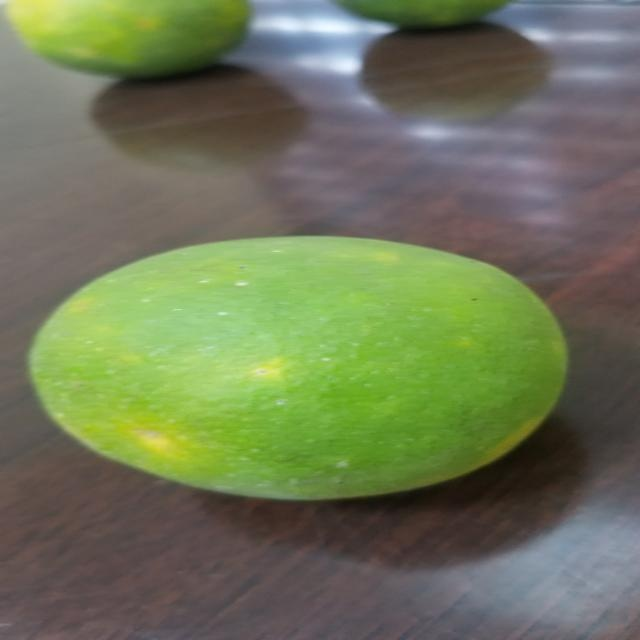agrume: (29, 232, 578, 505)
